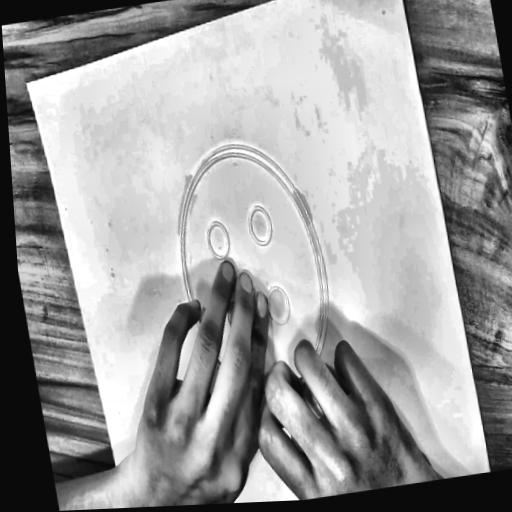button: (150, 118, 363, 442)
top_left: (22, 76, 32, 90)
